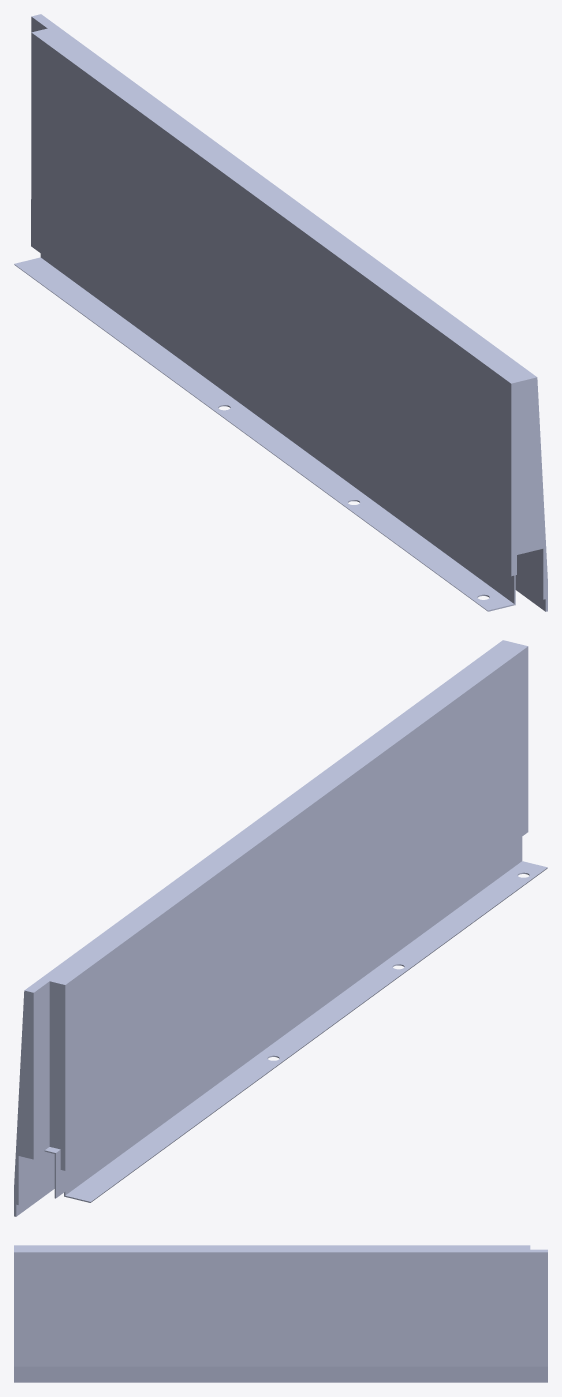
The model's file is mv-kava-K500-m.glb.
3 renders of one model, top to bottom at view 1: azimuth 30°, elevation 25°; view 2: azimuth 150°, elevation 25°; view 3: azimuth 270°, elevation 25°, orthographic. The views are drawn at different scales.
Parts seen in each view (by area): view 1: 49565012; view 2: 49565012; view 3: 49565012.
Part boxes in pixels (box(x1,y1,x2,y2)): 49565012: box(14, 14, 547, 611); 49565012: box(14, 640, 547, 1216); 49565012: box(14, 1245, 547, 1382).
Size of the model in its own units: 0.0335 by 0.129 by 0.4902.
